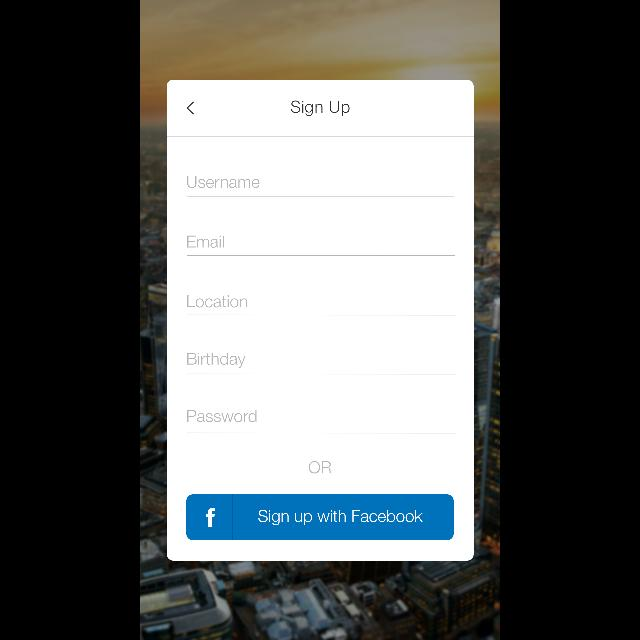icon: (186, 101, 194, 115)
input: (188, 410, 457, 434), (188, 353, 456, 375), (186, 176, 454, 197), (188, 296, 457, 316), (187, 236, 455, 256)
panel: (166, 80, 474, 560)
text: (290, 100, 350, 116), (188, 352, 246, 368), (188, 176, 260, 188), (187, 410, 257, 422), (187, 296, 247, 308), (188, 236, 225, 248), (308, 461, 332, 474)
textbutton: (186, 494, 454, 540)
